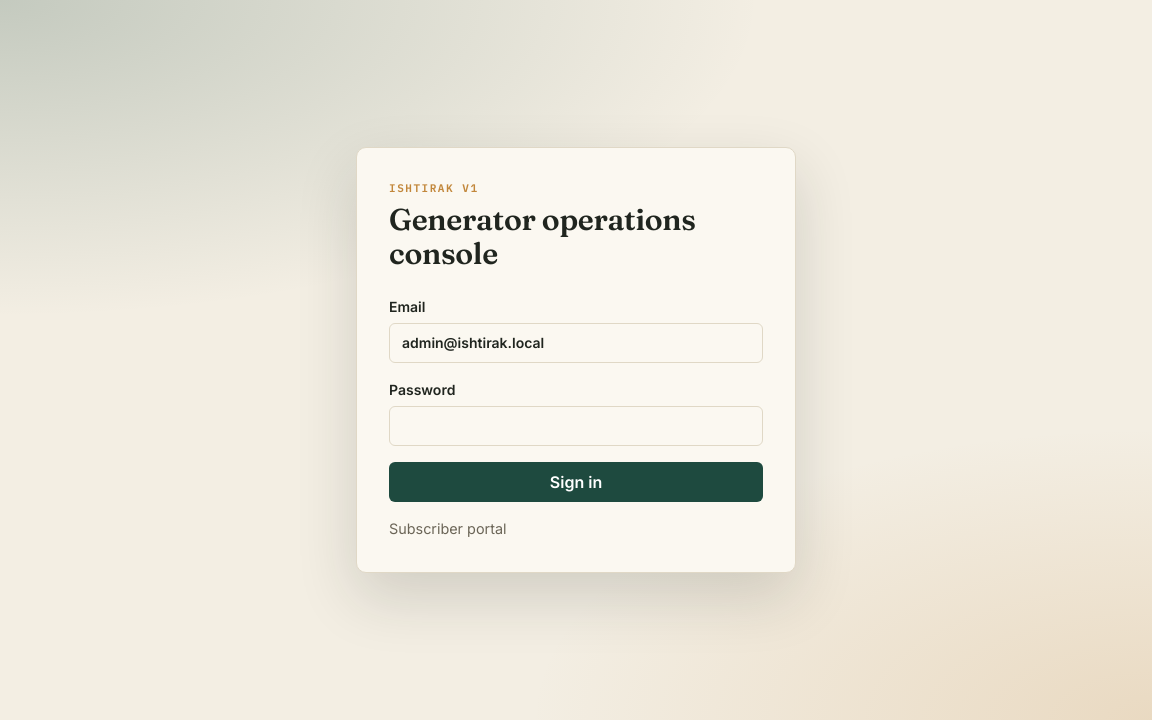
Test: auth pages › branches to context selection for multi-membership login
Expected: the button "Sign in" is shown, [389,462,763,502]
In the password field labelled "Password": (576, 426) [389,406,763,446], type "demo-password"
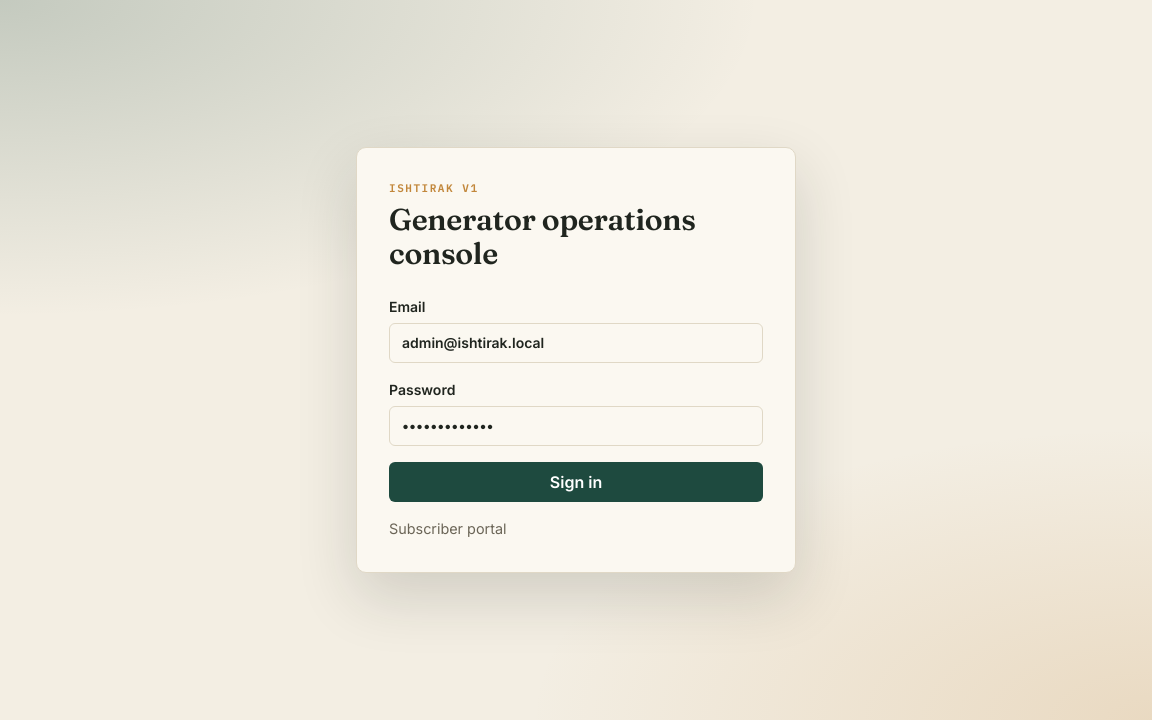
Click the button "Sign in": (576, 482) [389,462,763,502]
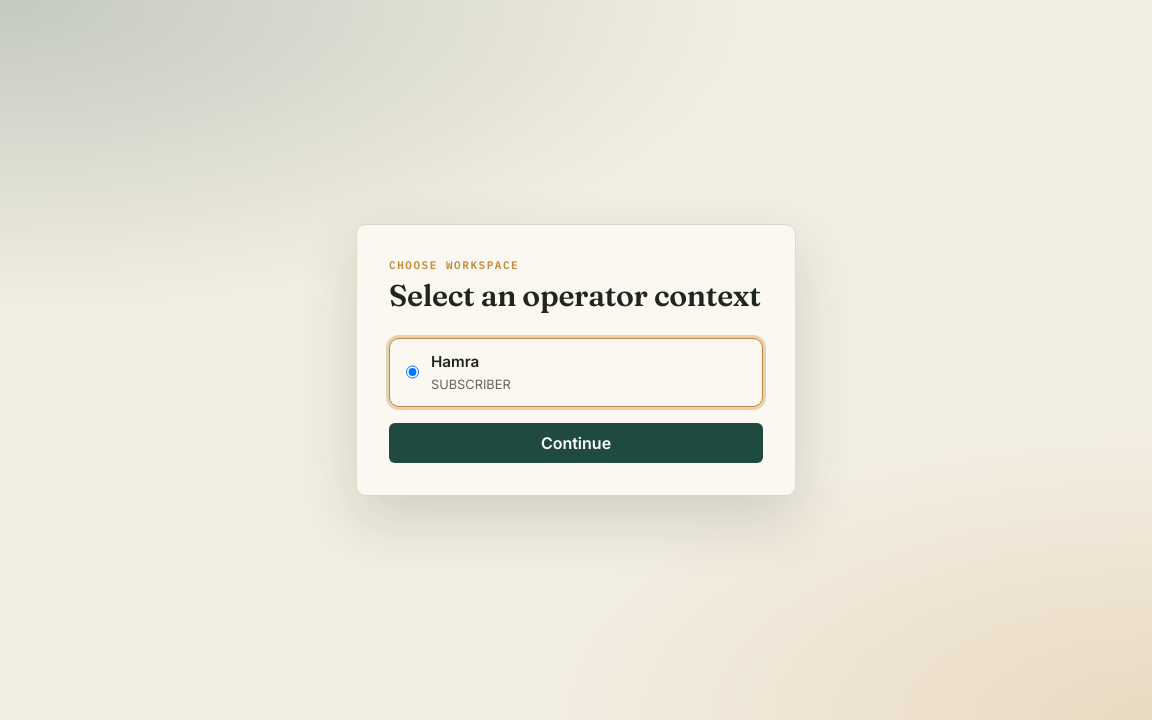
Expected: the text "Choose workspace" is shown, [389,258,519,272]
